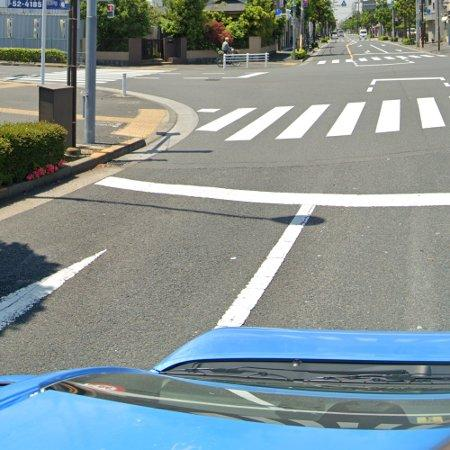crosswalks: (198, 95, 448, 144)
